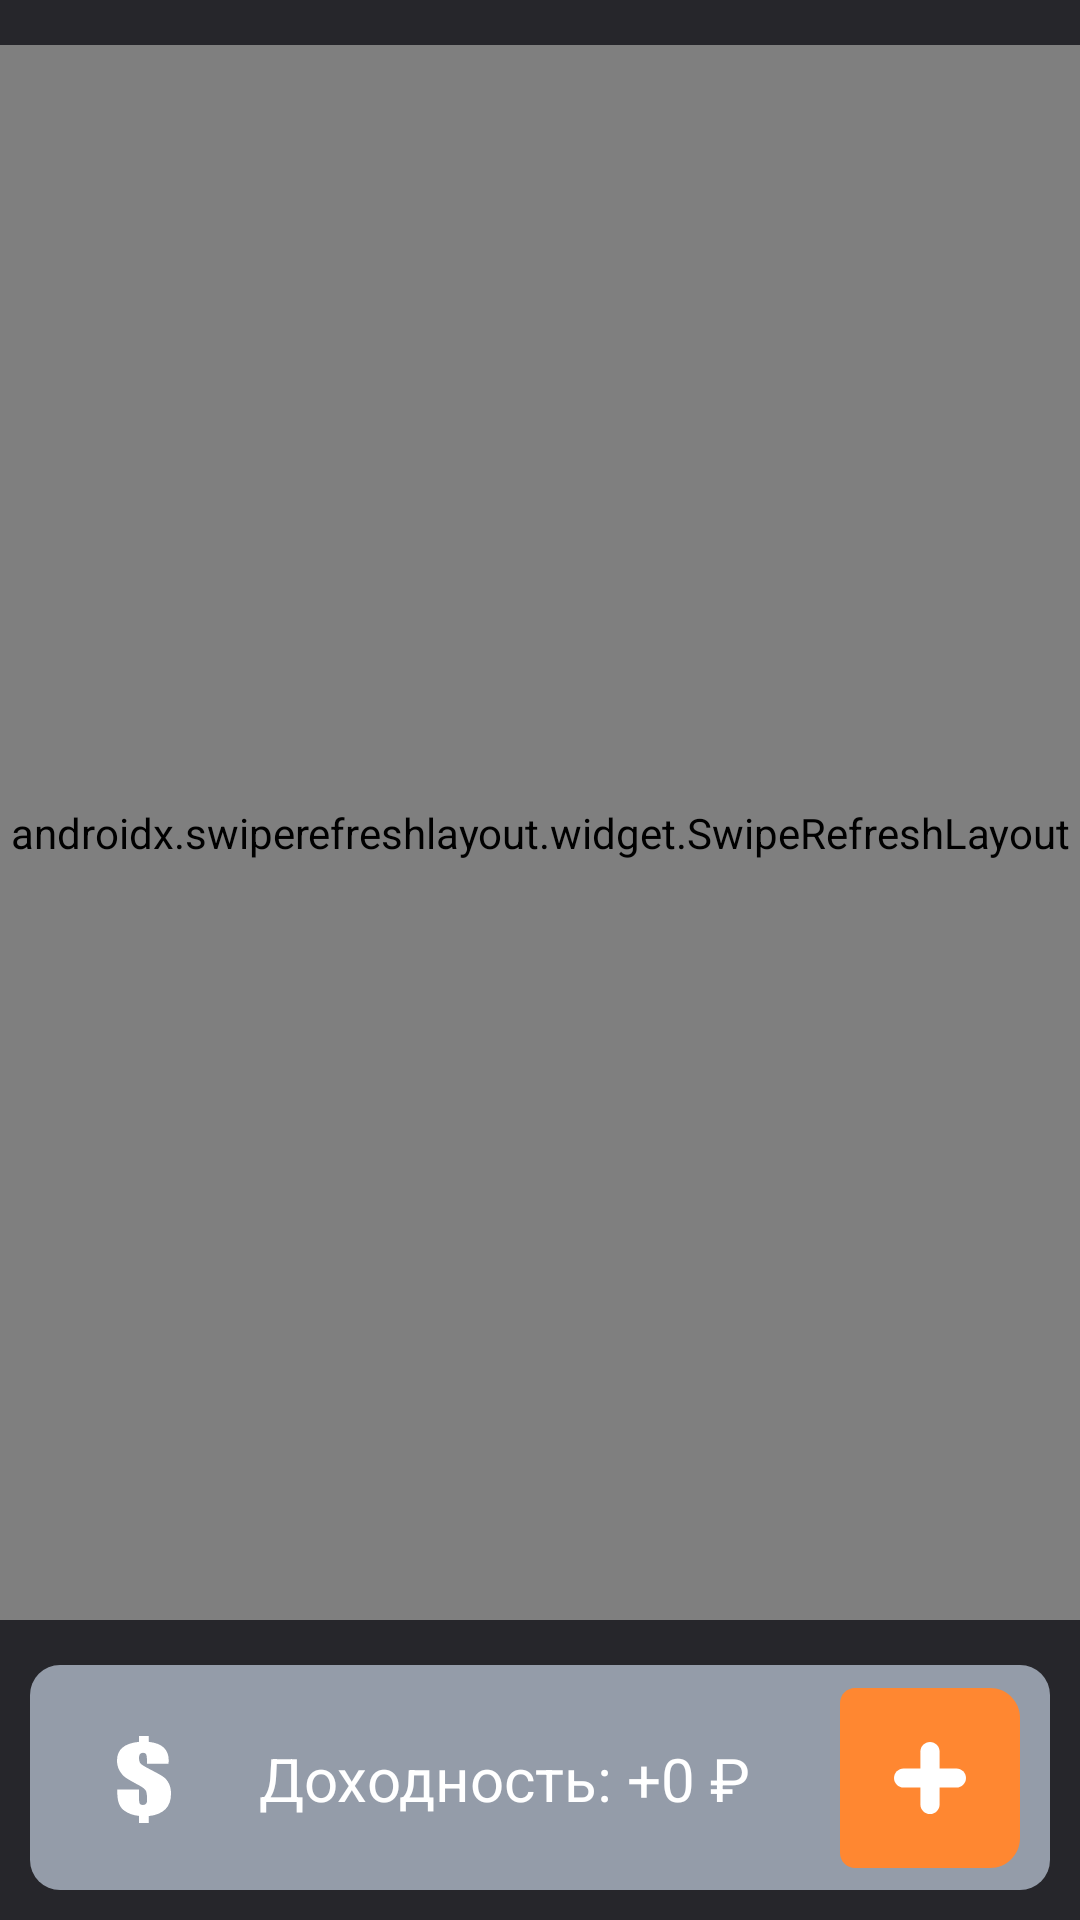

Where to tap for icons on this 1080 × 1920 app screen, as [x,y]:
dollar: [144,1779]
plus: [930,1778]
